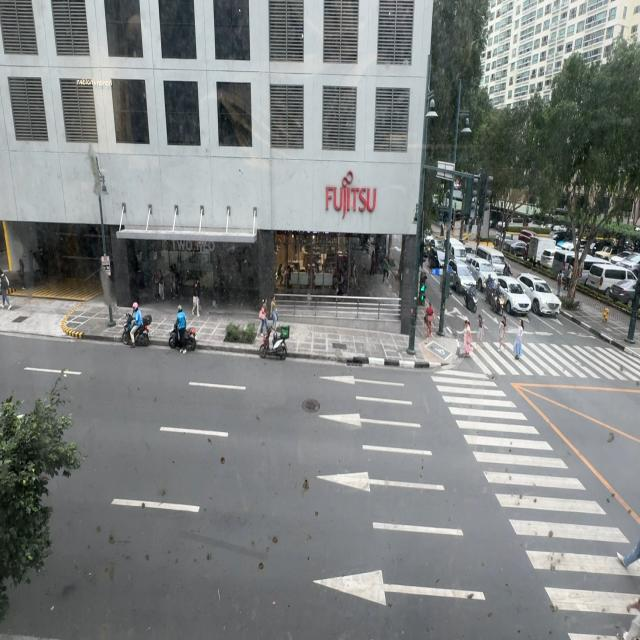crossing: (514, 317, 524, 360), (463, 319, 474, 358), (498, 315, 508, 351)
pedestrain: (0, 267, 12, 310), (268, 292, 280, 333), (258, 300, 270, 338), (192, 280, 201, 317), (32, 253, 41, 286), (562, 262, 570, 290), (557, 271, 562, 298), (568, 264, 573, 290)
